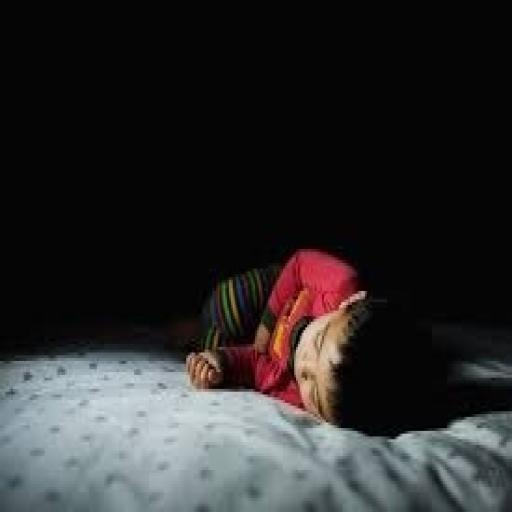sleeping: (181, 240, 443, 436)
